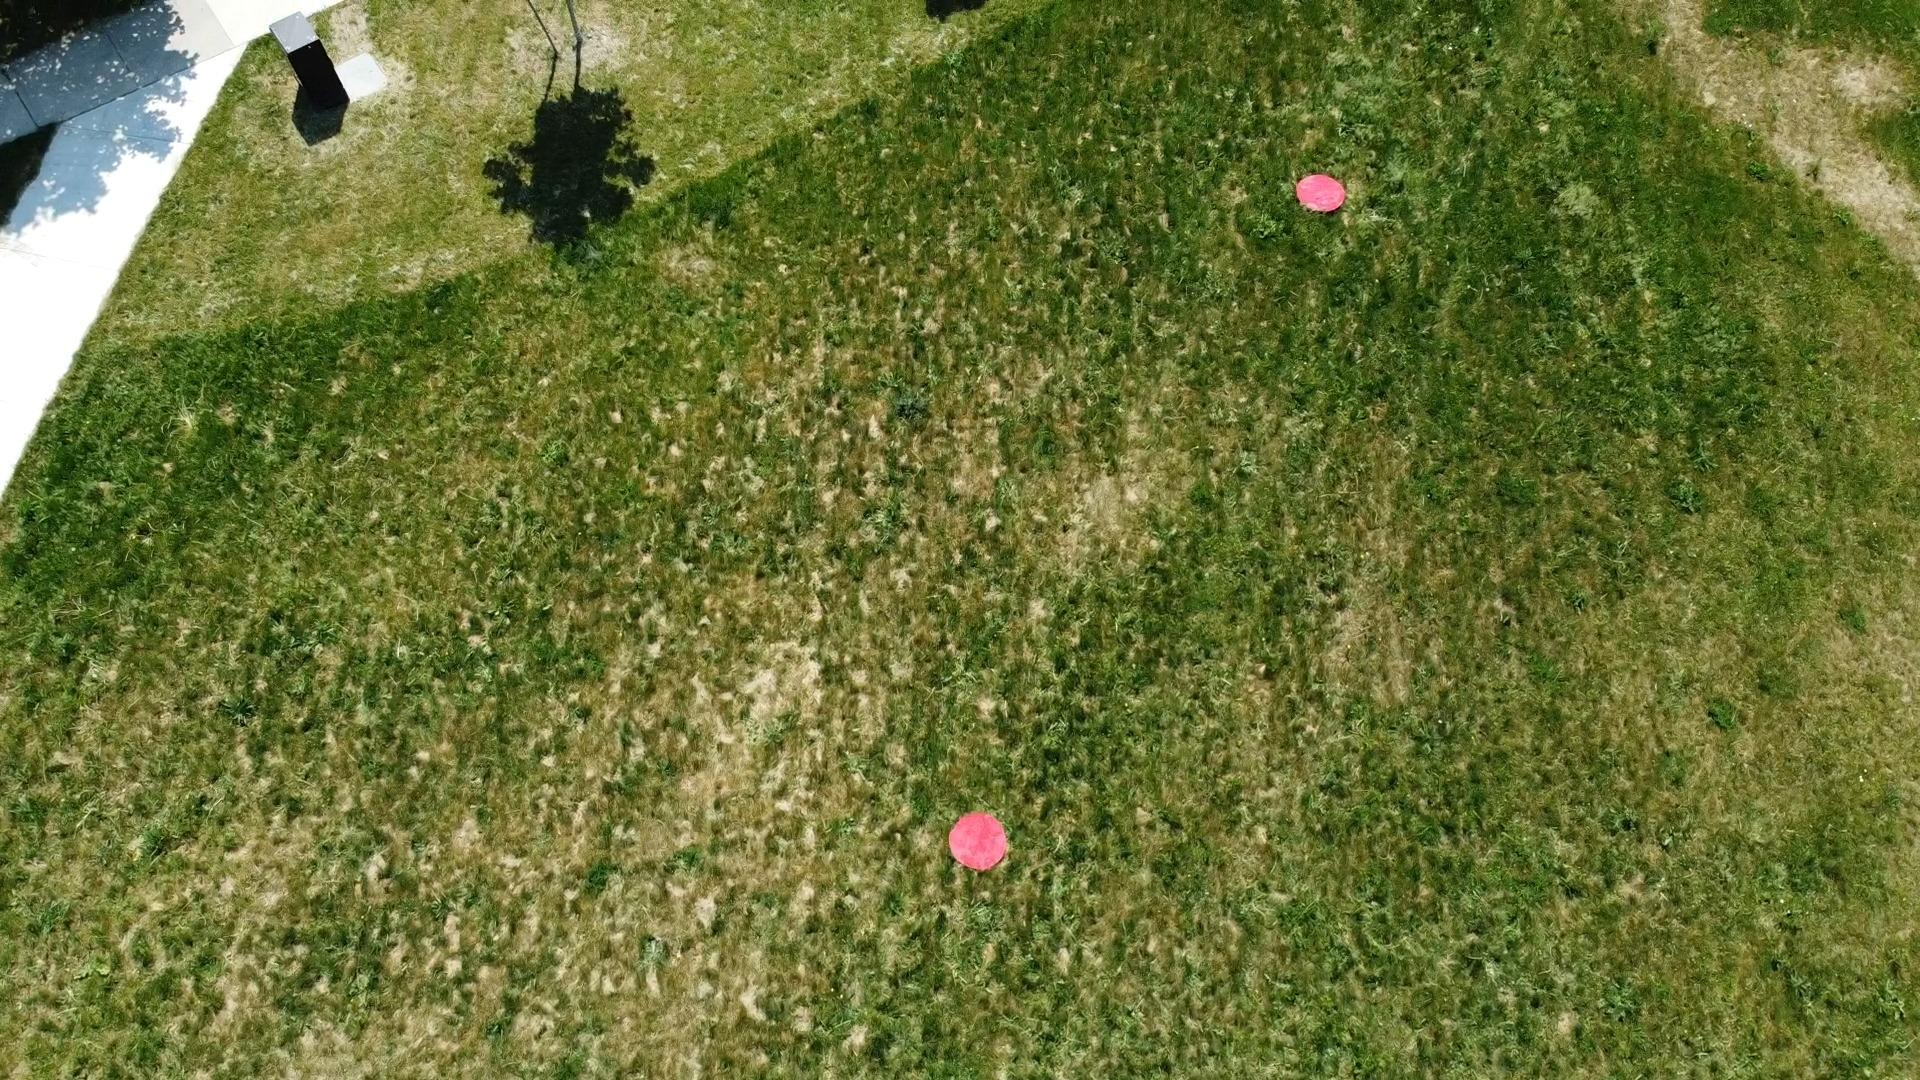Red: (948, 812, 1011, 873), (1292, 170, 1350, 218)
